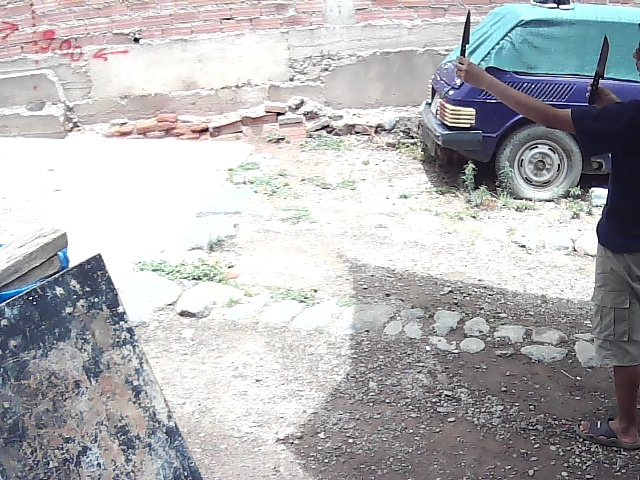cuchillo: (585, 31, 613, 102), (457, 6, 475, 58)
